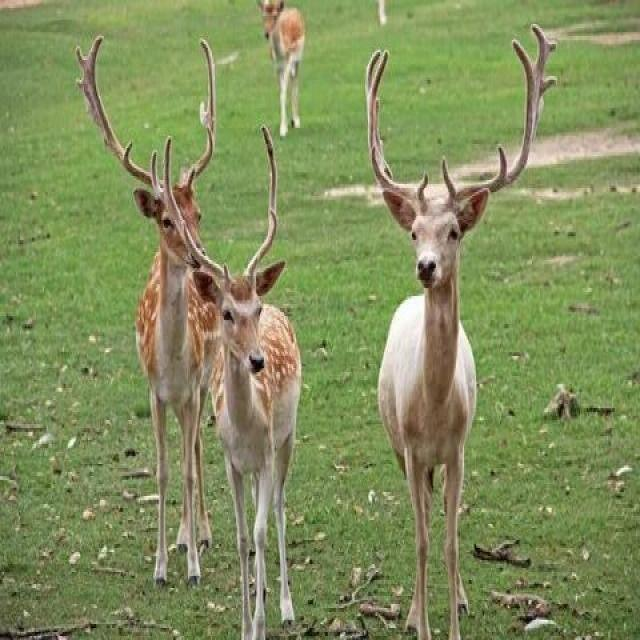deer: (317, 102, 558, 581), (161, 190, 387, 590), (77, 81, 280, 496)
